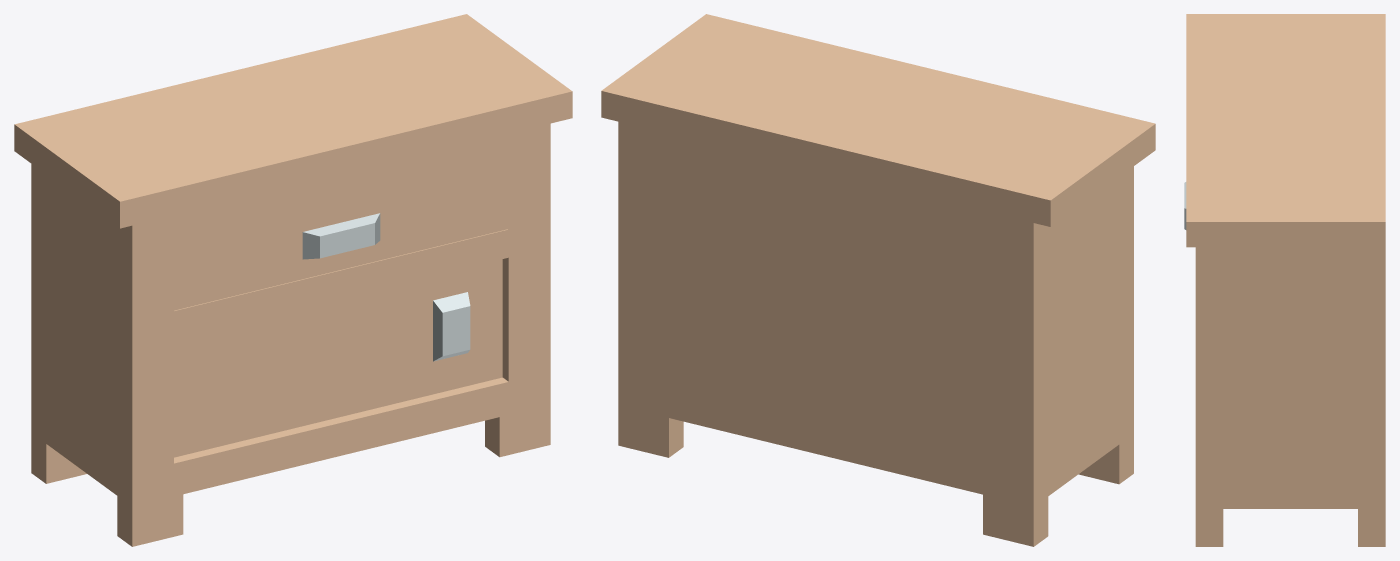
Rendered from kk-cabinetBedDrawer-dresser.glb.
3 renders of one model, left to right at view 1: azimuth 30°, elevation 25°; view 2: azimuth 150°, elevation 25°; view 3: azimuth 270°, elevation 25°, orthographic. The views are drawn at different scales.
Visible parts, largest first — view 1: cabinetBedDrawer(Clone), door; view 2: cabinetBedDrawer(Clone); view 3: cabinetBedDrawer(Clone).
Boxes of the visible parts, <box> form: cabinetBedDrawer(Clone): <box>14,14,572,546</box>; door: <box>302,213,470,361</box>; cabinetBedDrawer(Clone): <box>601,14,1155,546</box>; cabinetBedDrawer(Clone): <box>1186,14,1385,546</box>.
Size of the model in its own units: 1 by 0.7454 by 0.4091.
